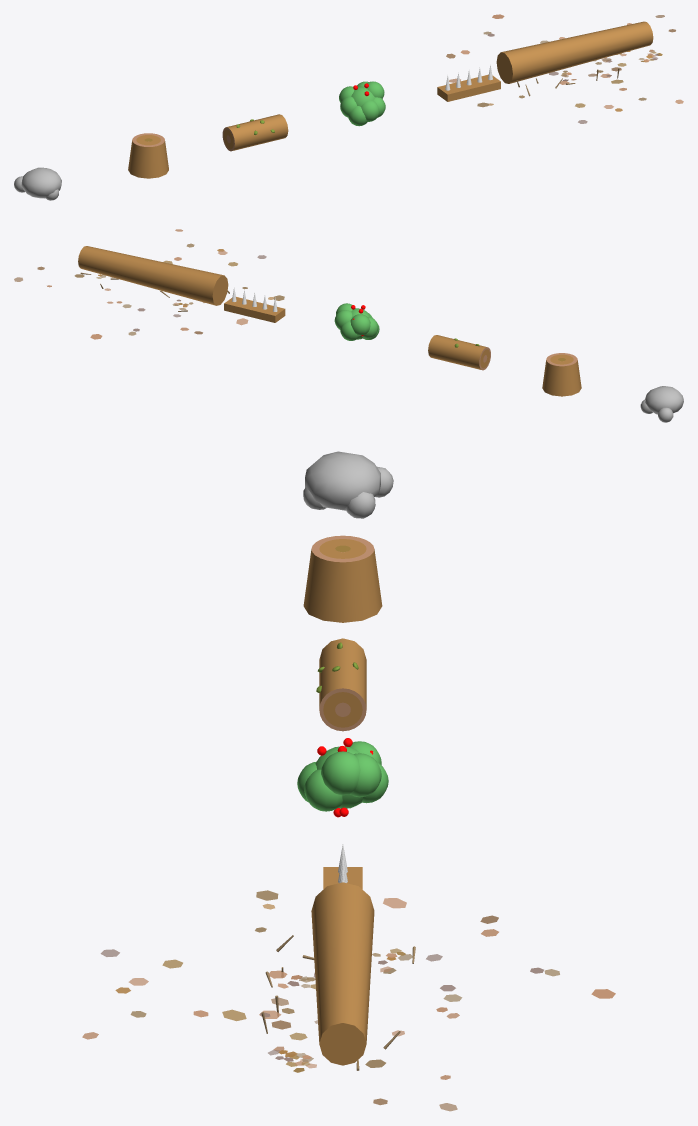
The model's file is obstacles_classic_mobile.glb.
3 views of the same model, one above another, from view 1: azimuth 30°, elevation 25°; view 2: azimuth 150°, elevation 25°; view 3: azimuth 270°, elevation 25° (orthographic). The views are drawn at different scales.
Parts seen in each view (by area): view 1: fallenTree, bush, log, treeStump, rock, spikes; view 2: fallenTree, log, treeStump, bush, rock, spikes; view 3: fallenTree, treeStump, bush, rock, log.
Boxes of the visible parts, x1,y1,x2,y2 form: fallenTree: (446, 14, 683, 123); bush: (339, 81, 385, 126); log: (222, 114, 288, 151); treeStump: (128, 133, 168, 178); rock: (14, 167, 61, 200); spikes: (437, 65, 500, 101); fallenTree: (14, 229, 284, 339); log: (428, 335, 490, 370); treeStump: (542, 353, 581, 396); bush: (334, 303, 379, 340); rock: (640, 386, 683, 422); spikes: (224, 287, 285, 322); fallenTree: (82, 882, 615, 1111); treeStump: (303, 535, 382, 622); bush: (297, 738, 388, 817); rock: (303, 451, 393, 518); log: (316, 638, 366, 731).
Bounding box in the file's own units: 18.75 × 0.9945 × 6.77.
